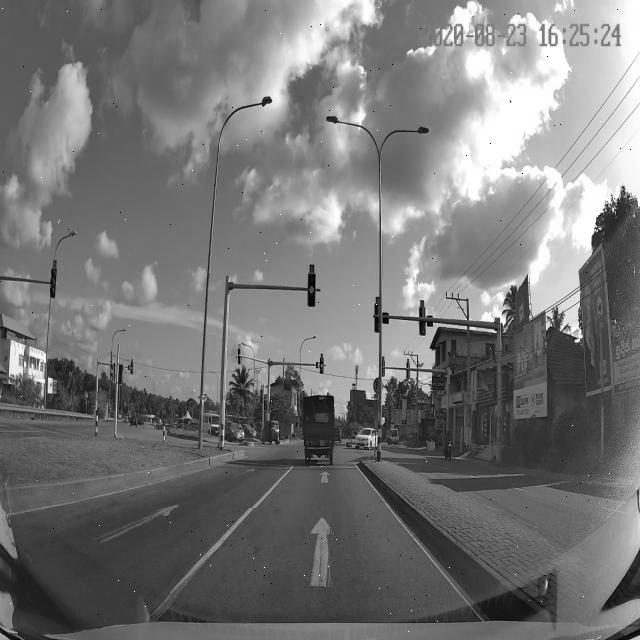forward: (171, 509, 473, 596)
